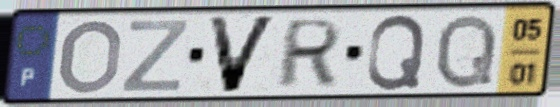O: (55, 17, 125, 96)
Q: (431, 11, 500, 91), (363, 12, 429, 93)
R: (272, 16, 346, 91)
V: (204, 13, 282, 96)
Z: (118, 17, 192, 94)
